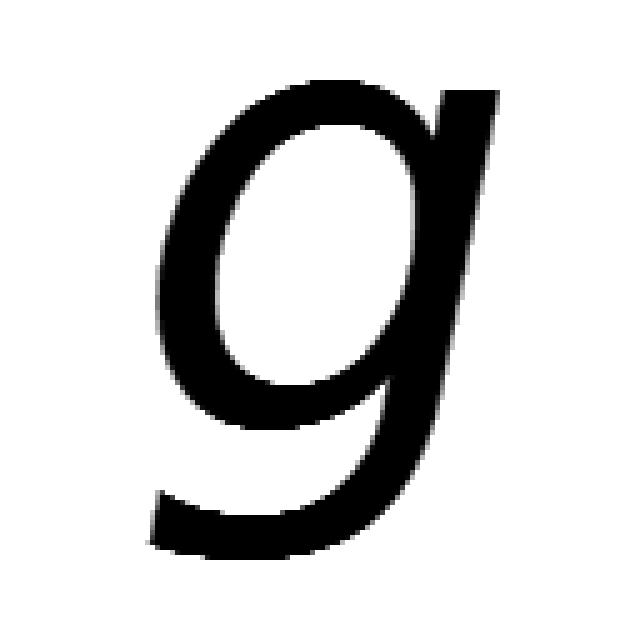G: (135, 65, 505, 565)
